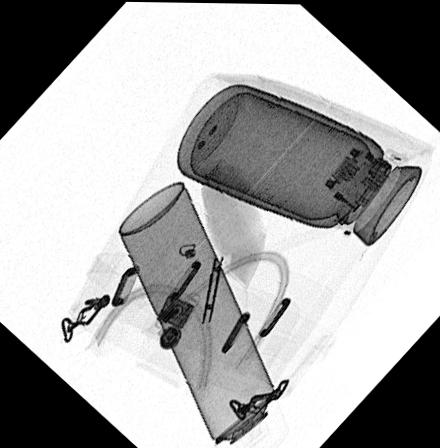Sprayer: (117, 180, 288, 448)
